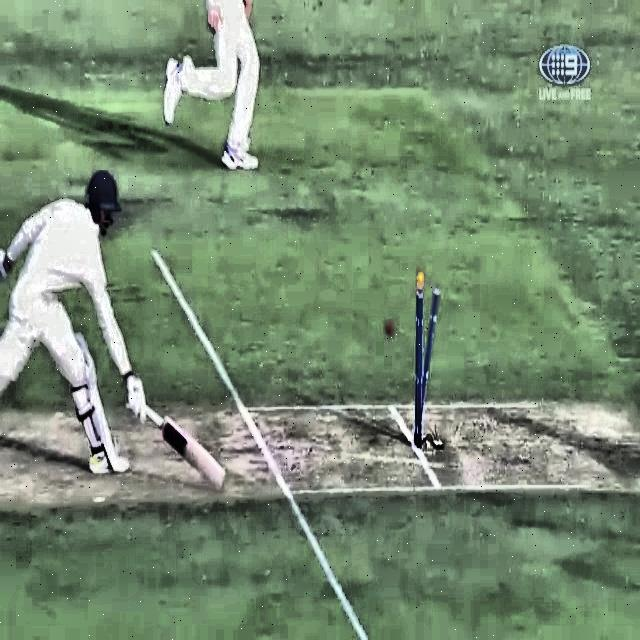Ball: (379, 317, 399, 348)
Bat: (127, 388, 233, 495)
Dis_Wicket: (410, 267, 446, 452)
Pitch_Line: (150, 245, 367, 640)
